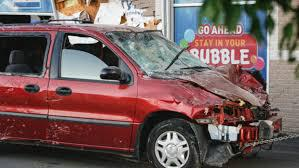Front-Windscreen-Damage: (121, 23, 193, 75)
bonnet-dent: (196, 63, 264, 101)
doorouter-dent: (49, 81, 131, 149), (2, 33, 43, 142)
fender-dent: (141, 81, 194, 115)
front-bumper-dent: (221, 107, 287, 146)
